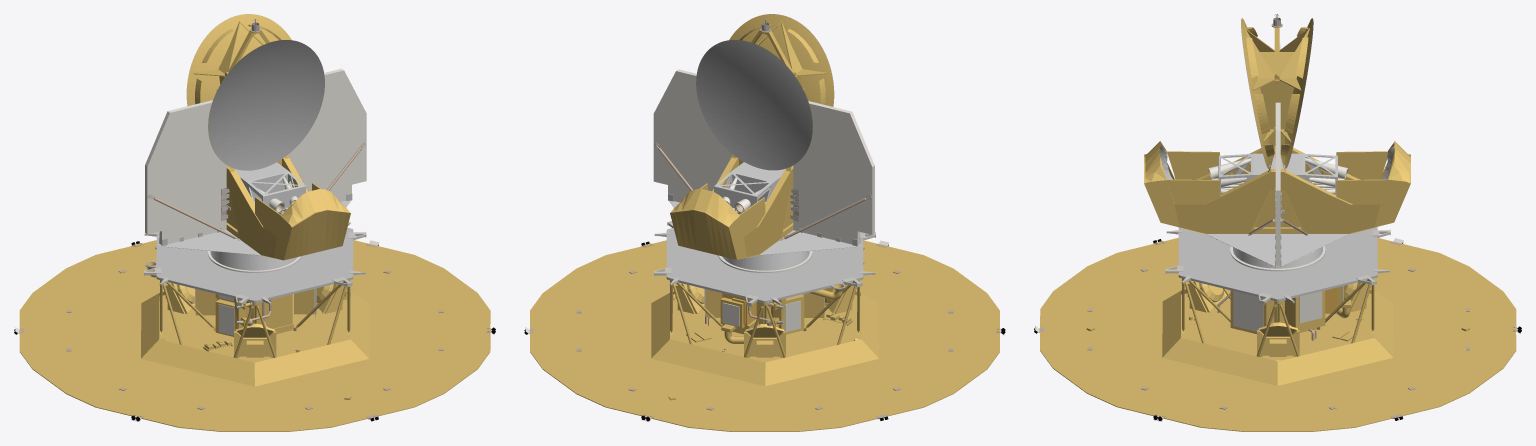
File: wilkinson-microwave-anisotropy-probe-wmap.glb
3 renders of one model, left to right at view 1: azimuth 30°, elevation 25°; view 2: azimuth 150°, elevation 25°; view 3: azimuth 270°, elevation 25°, orthographic.
Visible parts, largest first — view 1: Layer_0; view 2: Layer_0; view 3: Layer_0.
Boxes of the visible parts, left/top/right/bottom form: Layer_0: left=14, top=14, right=495, bottom=431; Layer_0: left=524, top=14, right=1005, bottom=431; Layer_0: left=1034, top=14, right=1521, bottom=431.
Size of the model in its own units: 278 by 208 by 283.
